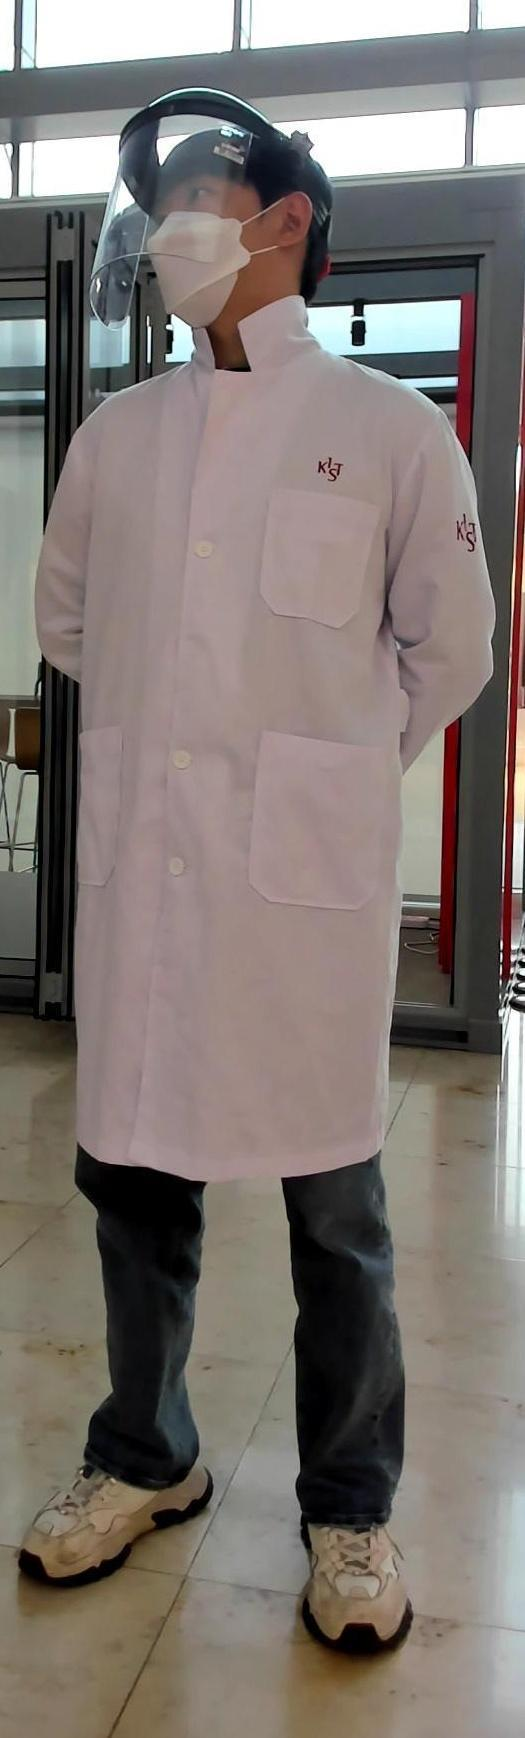lab_coat: (38, 367, 477, 1162)
